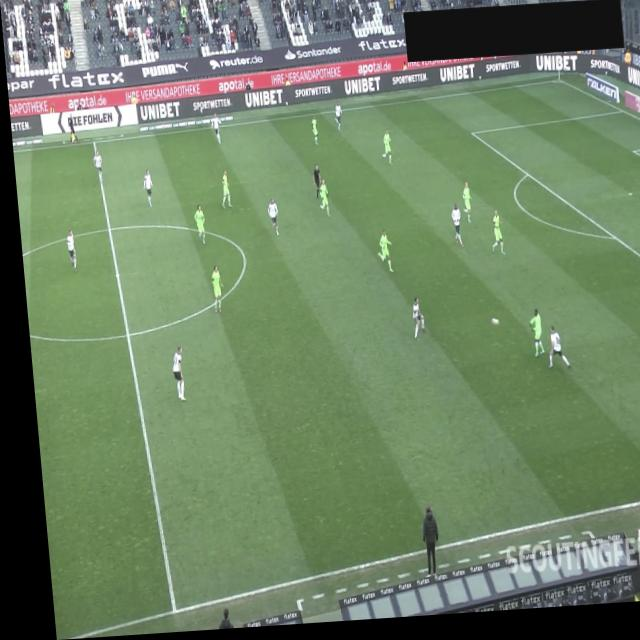player: (538, 331, 564, 378), (164, 347, 180, 404), (521, 315, 538, 364), (484, 216, 501, 262), (372, 234, 389, 278), (205, 267, 219, 318), (405, 301, 420, 346), (446, 207, 459, 253), (215, 172, 229, 212), (189, 206, 202, 247), (138, 170, 151, 210), (263, 200, 276, 240), (457, 187, 469, 230), (314, 182, 327, 221), (207, 113, 221, 148), (61, 229, 72, 272), (378, 134, 390, 171), (89, 150, 100, 180), (331, 106, 341, 136), (308, 119, 317, 149)
referee: (309, 168, 319, 203), (65, 116, 76, 146)
